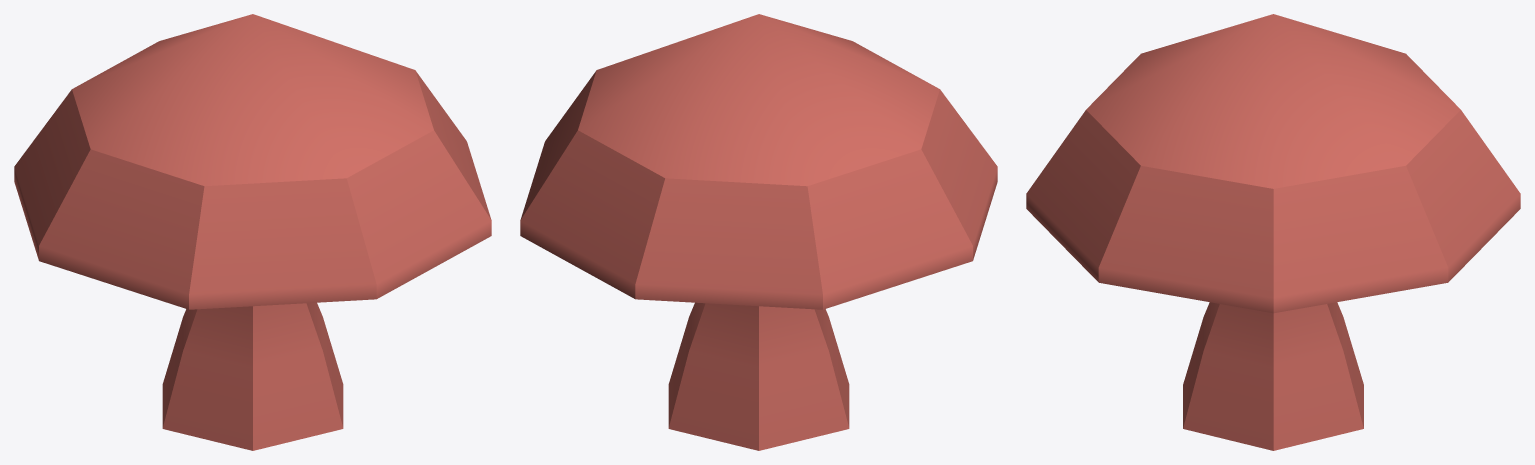
Rendered from Glowshroom.fbx.
The picture shows the model from 3 angles, left to right: view 1: azimuth 30°, elevation 25°; view 2: azimuth 150°, elevation 25°; view 3: azimuth 270°, elevation 25°; orthographic projection.
Parts seen in each view (by area): view 1: pCylinder103; view 2: pCylinder103; view 3: pCylinder103.
Part boxes in pixels (<box>): pCylinder103: <box>14,14,491,450</box>; pCylinder103: <box>520,14,997,450</box>; pCylinder103: <box>1026,14,1520,450</box>.
Size of the model in its own units: 0.0982 by 0.0861 by 0.0982.
